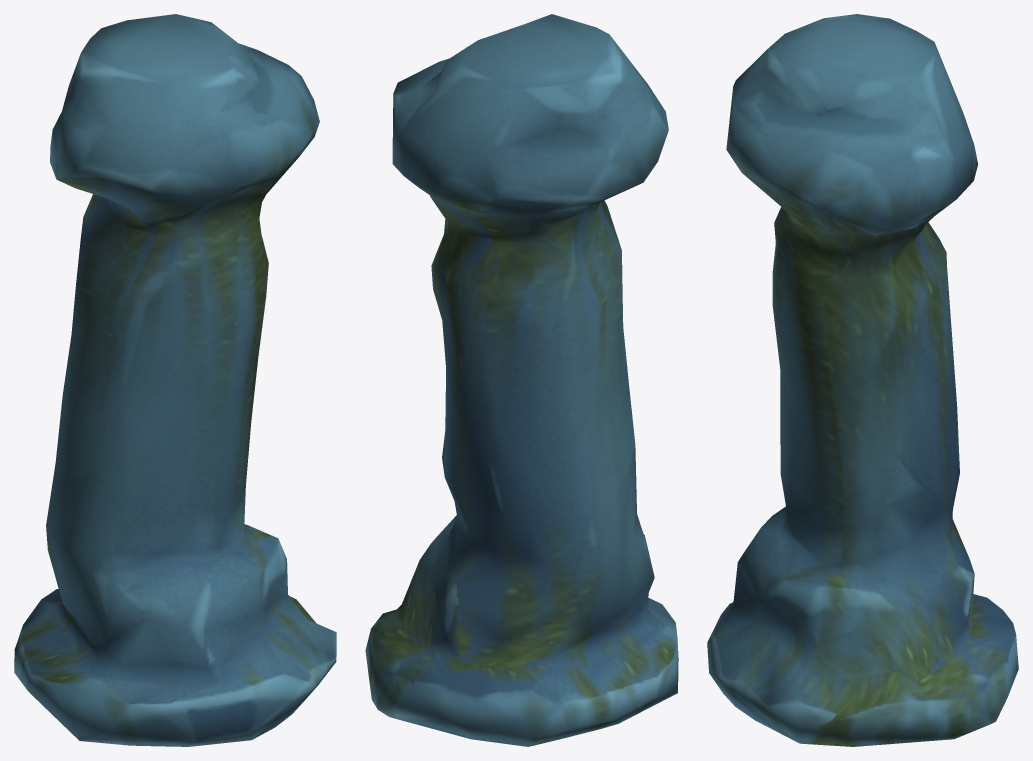
File: Cliff_colomn.fbx
The picture shows the model from 3 angles, left to right: view 1: azimuth 30°, elevation 25°; view 2: azimuth 150°, elevation 25°; view 3: azimuth 270°, elevation 25°; orthographic projection.
Visible parts, largest first — view 1: Cube.007; view 2: Cube.007; view 3: Cube.007.
Boxes of the visible parts, x1,y1,x2,y2 form: Cube.007: (14, 14, 336, 746); Cube.007: (365, 14, 678, 746); Cube.007: (707, 14, 1018, 746).
Size of the model in its own units: 234 by 528 by 234.
